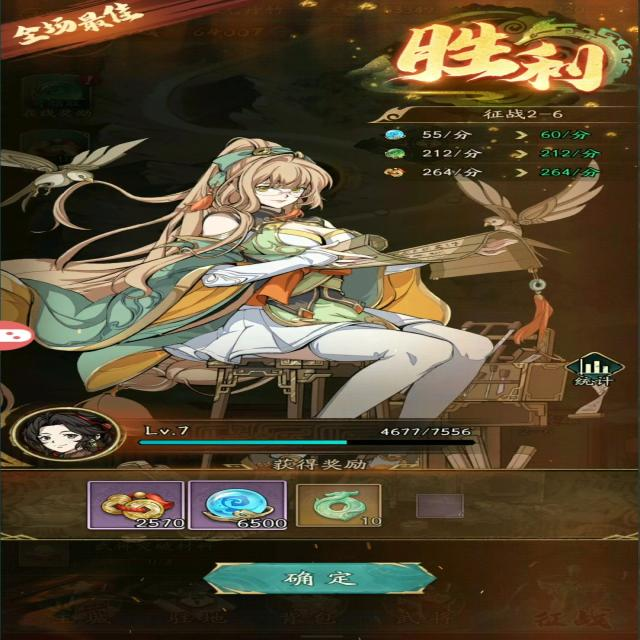operation-enter: (204, 554, 446, 604)
operation-statistics: (555, 350, 640, 389)
